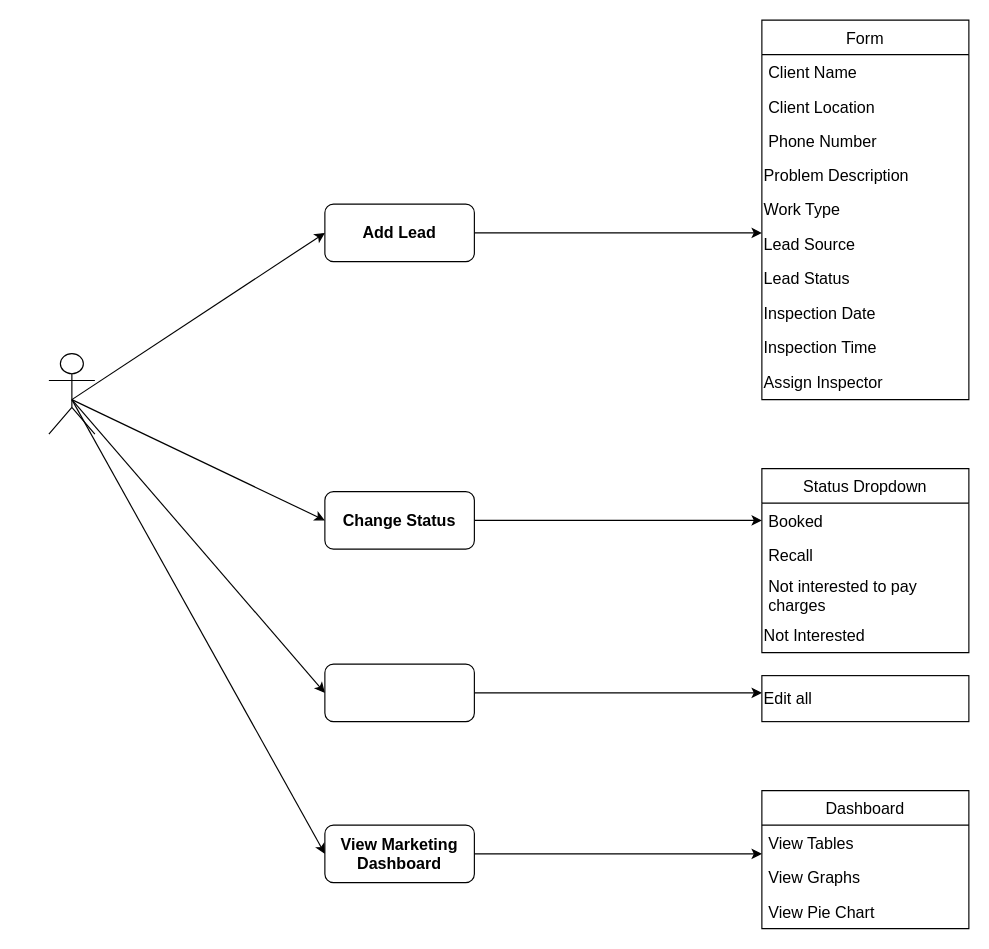
Image size: 989x949. Some labels were removed from this diagram. The shapes that lost their labels are listed below. From the top down, each one's centre as x and y in pixels, then its label:
[71,393]: Marketing Team
[399,692]: Edit Lead
